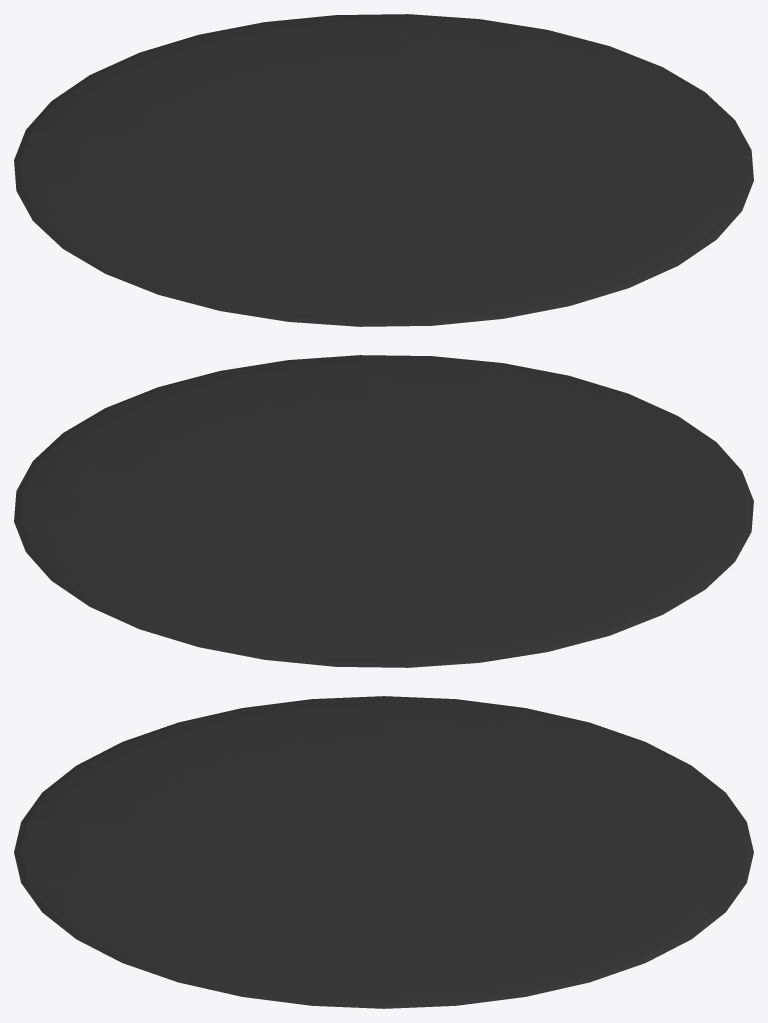
File: schattenItems.fbx
3 views of the same model, one above another, from view 1: azimuth 30°, elevation 25°; view 2: azimuth 150°, elevation 25°; view 3: azimuth 270°, elevation 25° (orthographic).
Parts seen in each view (by area): view 1: Sphere; view 2: Sphere; view 3: Sphere.
Boxes of the visible parts, x1,y1,x2,y2 form: Sphere: (14, 14, 753, 326); Sphere: (14, 355, 753, 667); Sphere: (14, 696, 753, 1008).
Bounding box in the file's own units: 0.8 × 0.02 × 0.8.
1 material, 1 textured.
